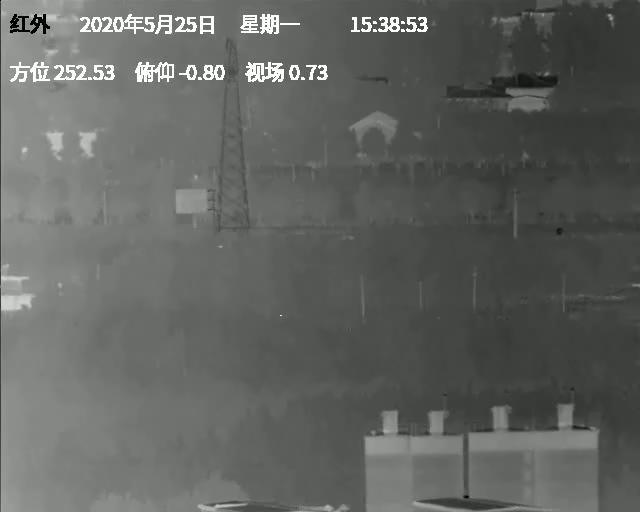uav: (217, 244, 224, 250)
